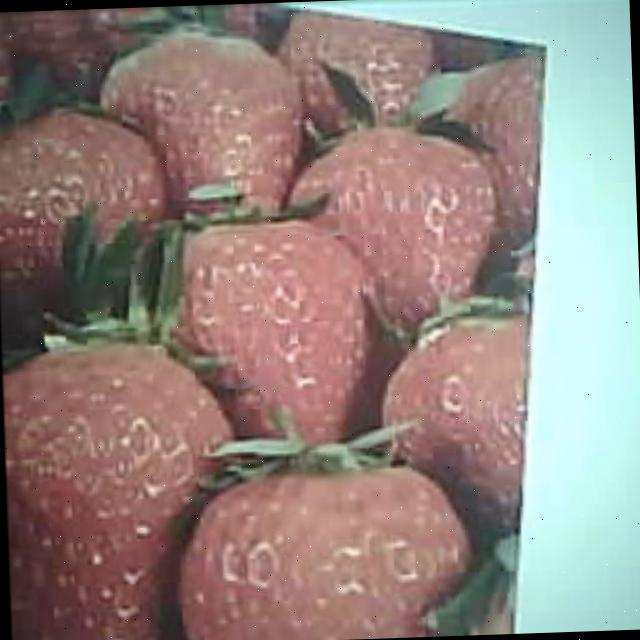strawberry: (0, 336, 241, 640), (176, 451, 469, 640)
